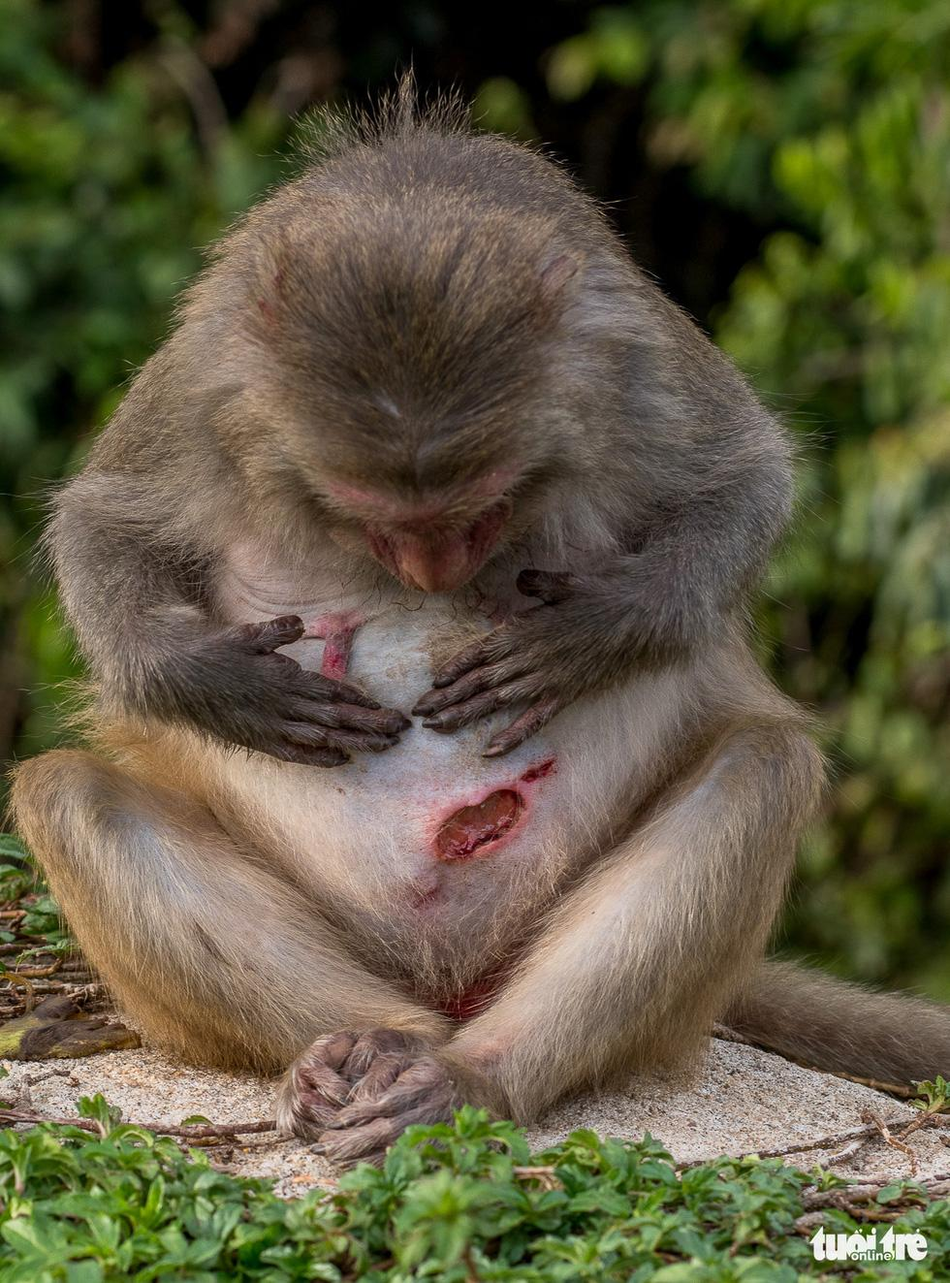cut: (277, 742, 615, 922)
